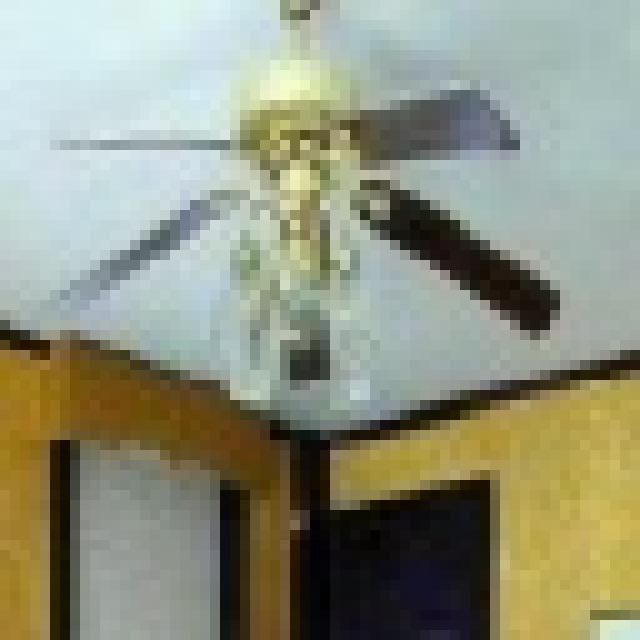Bulb: (9, 77, 596, 372)
